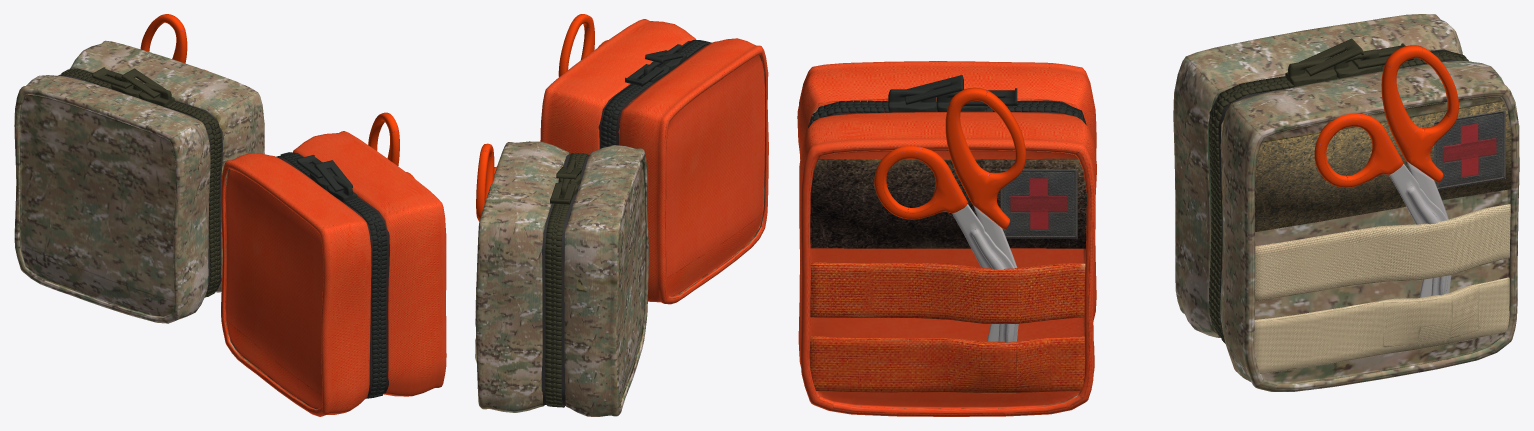
The model's file is Medic_pack.glb.
3 views of the same model, side by side, from view 1: azimuth 30°, elevation 25°; view 2: azimuth 150°, elevation 25°; view 3: azimuth 270°, elevation 25° (orthographic). The views are drawn at different scales.
Parts seen in each view (by area): view 1: medbag, medbag.001, scizors.001, scizors; view 2: medbag.001, medbag, scizors, scizors.001; view 3: medbag.001, medbag, scizors, scizors.001, patch, patch.001.
Boxes of the visible parts, left/top/right/bottom form: medbag: left=220, top=131, right=446, bottom=416; medbag.001: left=14, top=40, right=264, bottom=323; scizors.001: left=140, top=14, right=207, bottom=70; scizors: left=368, top=112, right=414, bottom=178; medbag.001: left=475, top=141, right=648, bottom=416; medbag: left=540, top=19, right=768, bottom=304; scizors: left=558, top=14, right=607, bottom=76; scizors.001: left=476, top=143, right=496, bottom=221; medbag.001: left=1173, top=14, right=1519, bottom=391; medbag: left=797, top=61, right=1096, bottom=416; scizors: left=874, top=87, right=1026, bottom=342; scizors.001: left=1314, top=45, right=1458, bottom=297; patch: left=1000, top=169, right=1077, bottom=238; patch.001: left=1434, top=110, right=1505, bottom=189.
Size of the model in its own units: 4.49 by 4.85 by 9.52.
Materials: 4 (4 with a texture image).
